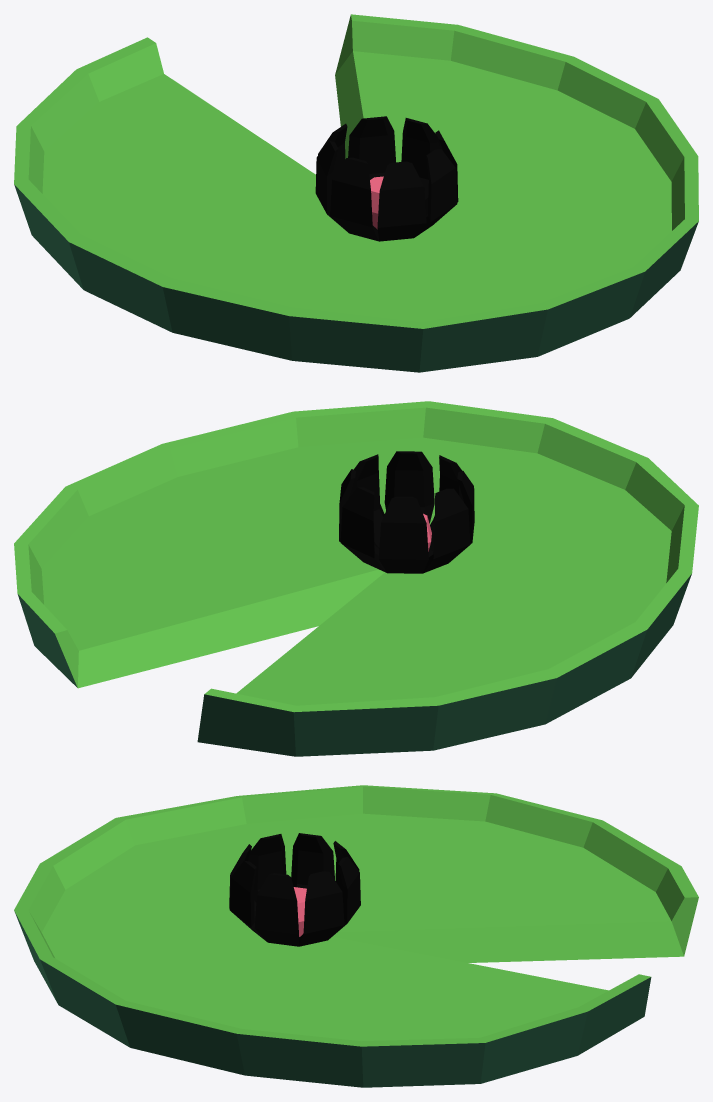
Rendered from Water Lily 02.fbx.
The picture shows the model from 3 angles, top to bottom: view 1: azimuth 30°, elevation 25°; view 2: azimuth 150°, elevation 25°; view 3: azimuth 270°, elevation 25°; orthographic projection. The views are drawn at different scales.
Visible parts, largest first — view 1: Water Lily 02; view 2: Water Lily 02; view 3: Water Lily 02.
Part boxes in pixels (left/top/right/bottom): Water Lily 02: left=14, top=14, right=698, bottom=372; Water Lily 02: left=14, top=401, right=698, bottom=756; Water Lily 02: left=14, top=785, right=698, bottom=1087.
Size of the model in its own units: 108 by 20.4 by 120.
